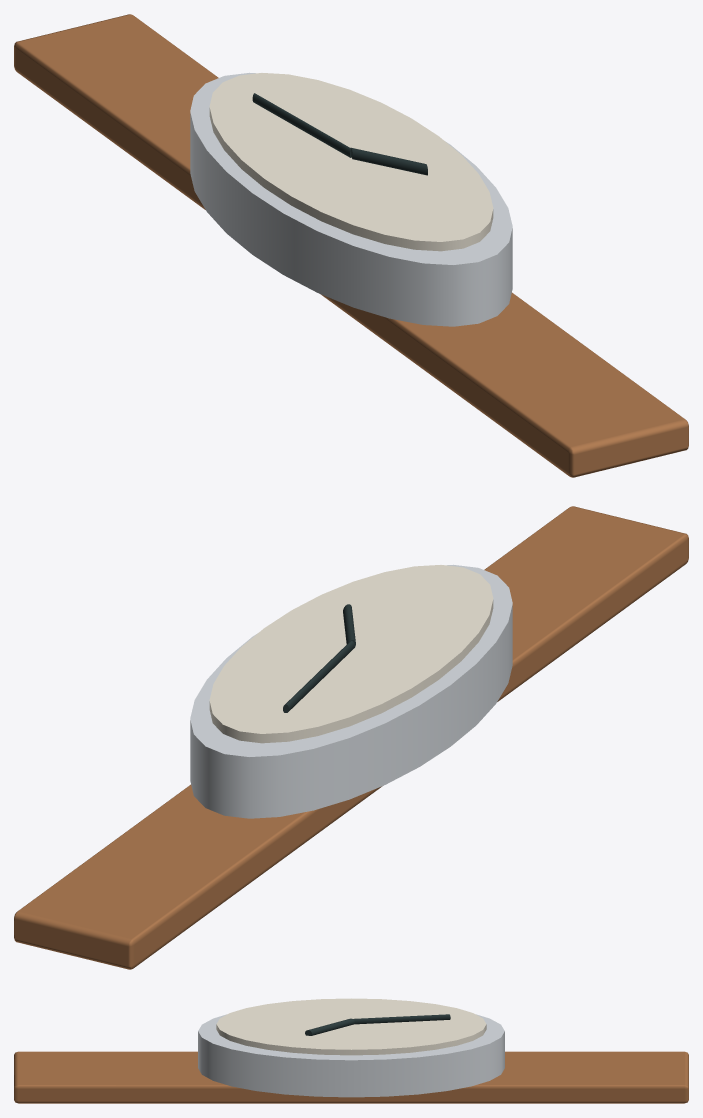
The model's file is wp-montre-bracelet.glb.
The picture shows the model from 3 angles, top to bottom: view 1: azimuth 30°, elevation 25°; view 2: azimuth 150°, elevation 25°; view 3: azimuth 270°, elevation 25°; orthographic projection. The views are drawn at different scales.
Parts seen in each view (by area): view 1: wp-montre-bracelet; view 2: wp-montre-bracelet; view 3: wp-montre-bracelet.
Part boxes in pixels (x1,y1,x2,y2): wp-montre-bracelet: [14, 14, 688, 477]; wp-montre-bracelet: [14, 506, 688, 969]; wp-montre-bracelet: [14, 998, 688, 1103].
Size of the model in its own units: 0.045 by 0.0245 by 0.22.
